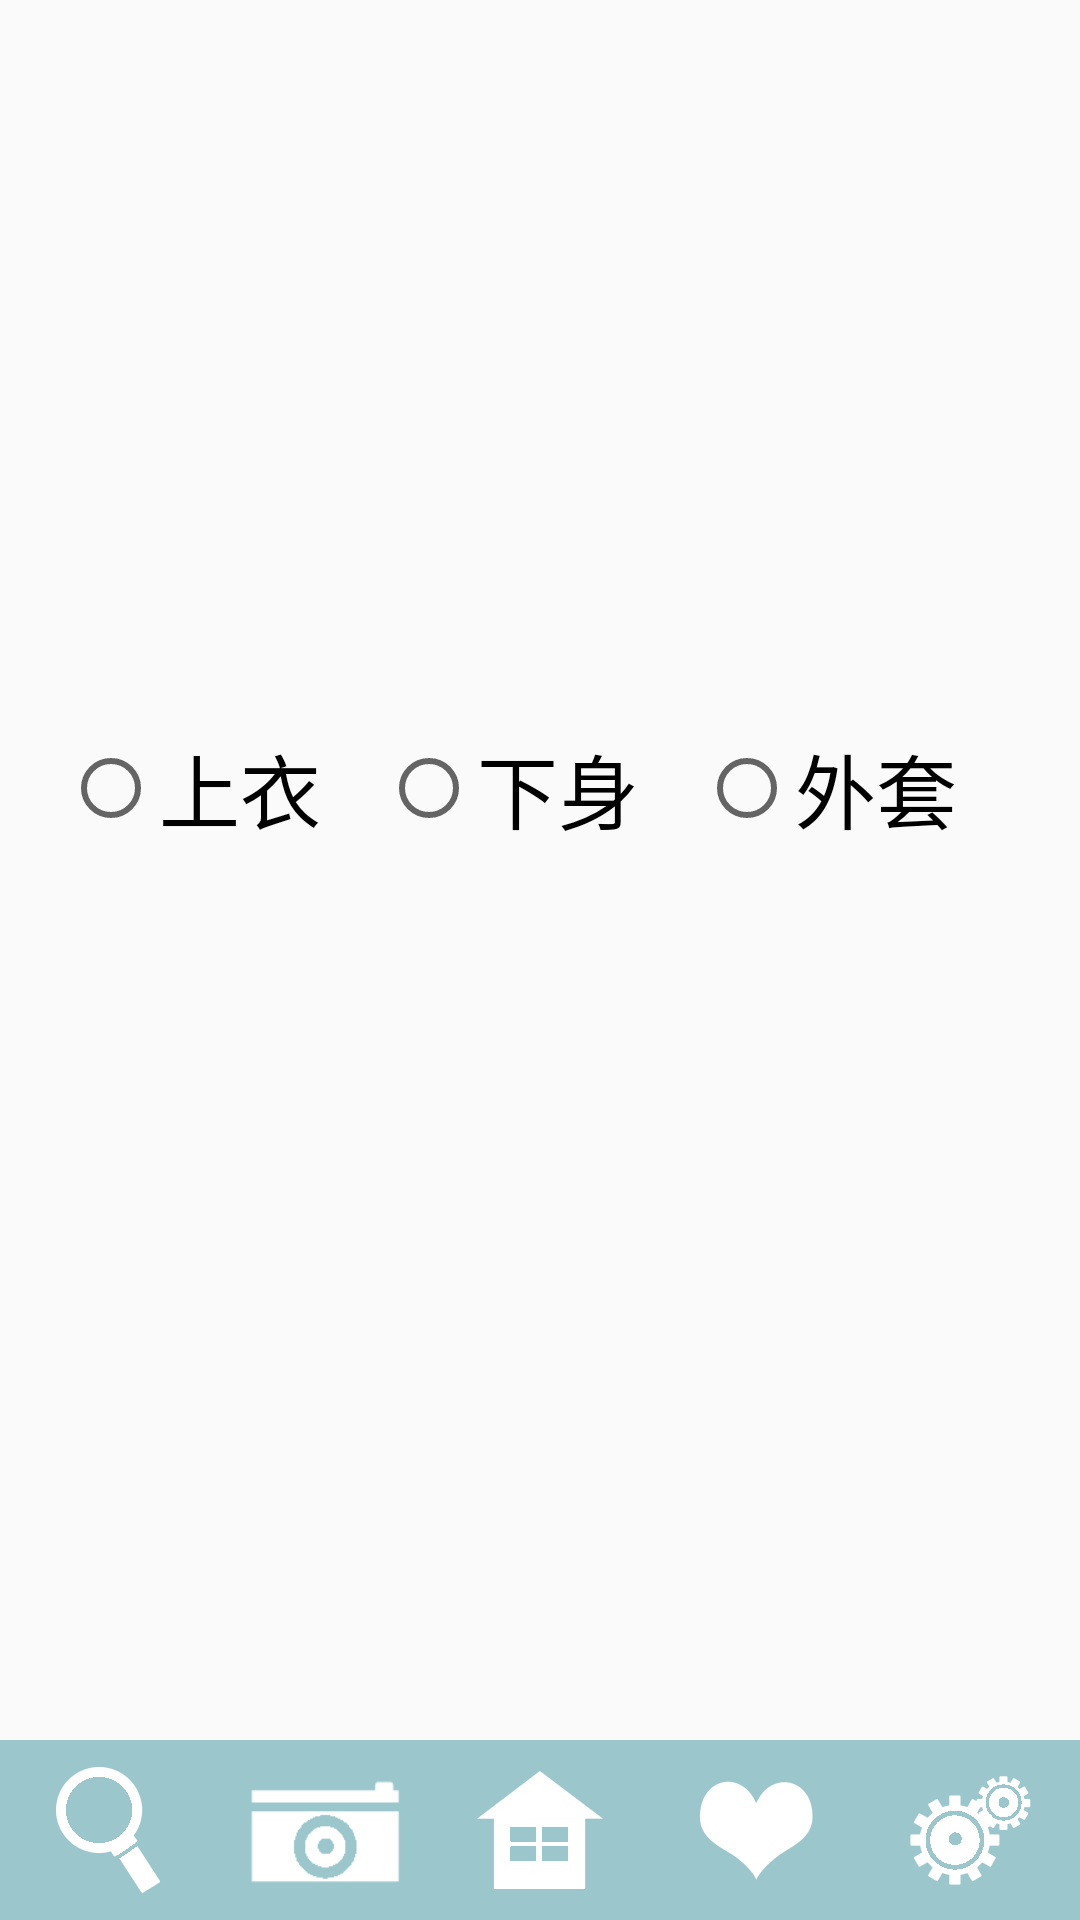

Icons on this 1080x1920 Android screen, each with the point to tap as [x,y]:
home: [540,1830]
like: [756,1830]
search: [108,1830]
setting: [970,1830]
